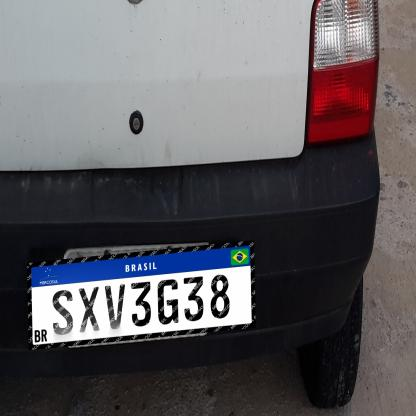PlacaM: (27, 240, 256, 350)
